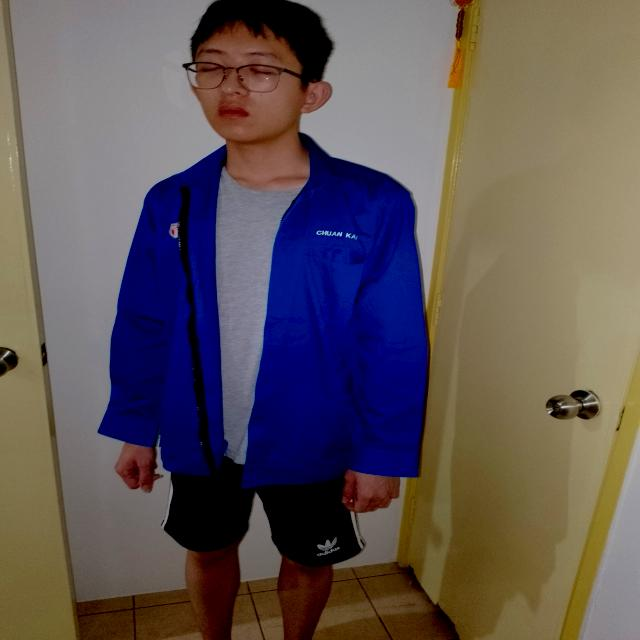person_with_labcoat: (99, 0, 427, 640)
